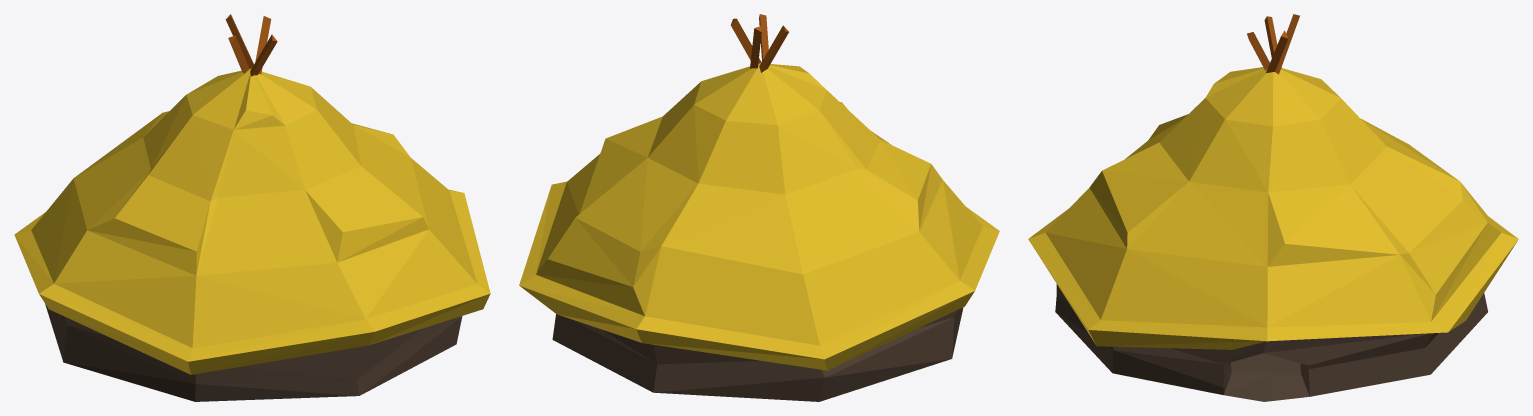
Rendered from normalHouse.FBX.
3 renders of one model, left to right at view 1: azimuth 30°, elevation 25°; view 2: azimuth 150°, elevation 25°; view 3: azimuth 270°, elevation 25°, orthographic.
Parts seen in each view (by area): view 1: Cylinder002; view 2: Cylinder002; view 3: Cylinder002.
Boxes of the visible parts, box(x1,y1,x2,y2) form: Cylinder002: box(14, 14, 490, 401); Cylinder002: box(519, 14, 999, 401); Cylinder002: box(1028, 14, 1518, 401).
Bounding box in the file's own units: 7.68 × 5.11 × 7.74.
